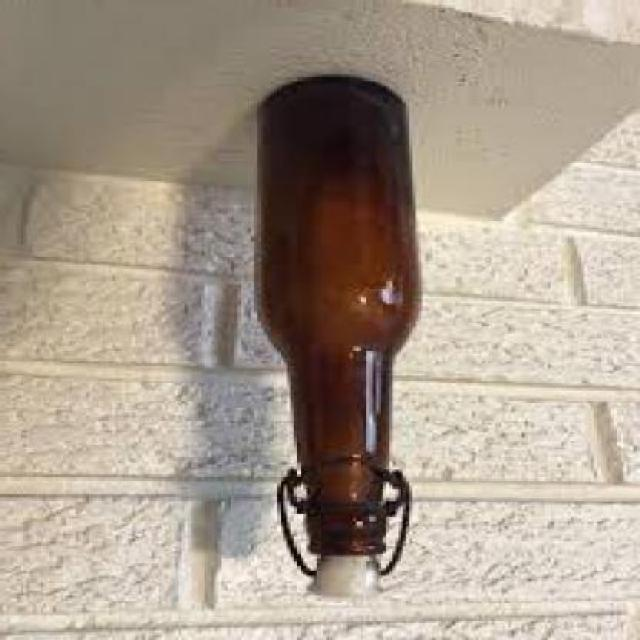GLASS: (261, 76, 422, 561)
PLASTIC: (309, 561, 386, 601)
